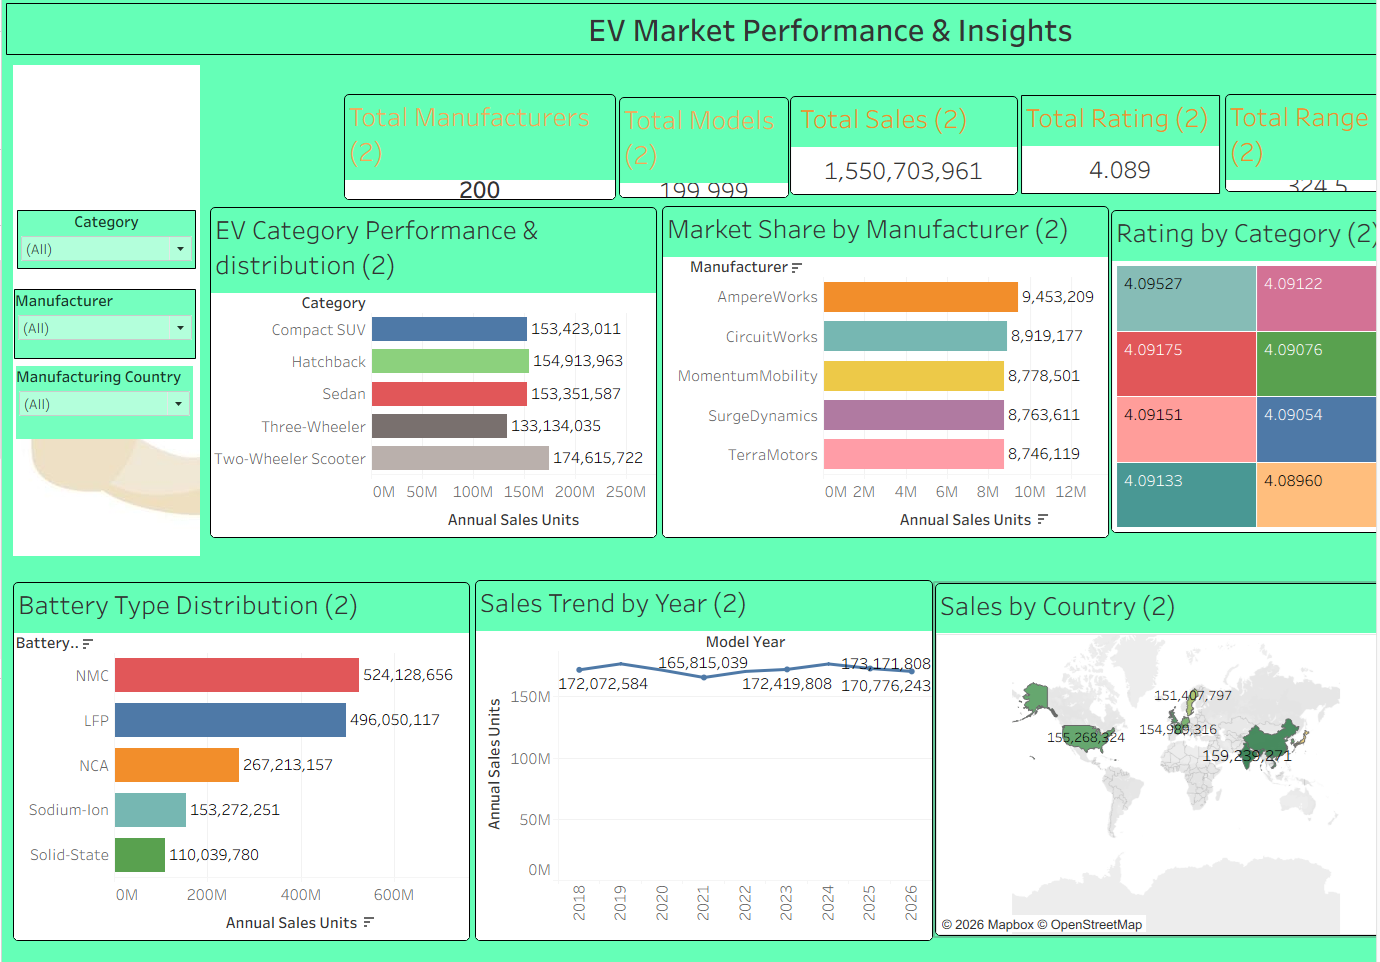

What the dashboard file says about the page in this screenshot:
{"tool":"tableau","page":{"name":"EV Market Dashboard (2)","canvas":[1000,1000],"units":"permille","ordinal":1},"visuals":[{"type":"title","box":[0,0,1000,61.8]},{"type":"image","param":"Image/small-chart-illustration-on-a-white-background-vector.jpg","box":[4.2,63.9,117.7,513.9]},{"type":"worksheet","title":"Total Manufacturers (2)","mark":"Automatic","box":[206.4,97.8,164.2,109.2]},{"type":"worksheet","title":"Total Range (2)","mark":"Automatic","box":[738.1,97.8,112.2,100.9]},{"type":"worksheet","title":"Total Battery (2)","mark":"Automatic","box":[852.8,97.8,127.9,99.9]},{"type":"worksheet","title":"Total Rating (2)","mark":"Automatic","box":[615,98.9,120.1,102]},{"type":"worksheet","title":" Total Sales (2)","mark":"Automatic","box":[475.6,99.9,137.6,102]},{"type":"worksheet","title":"Total Models (2)","mark":"Automatic","box":[372.4,100.9,102.6,104]},{"type":"worksheet","title":"Market Share by Manufacturer (2)","mark":"Automatic","rows":["manufacturer"],"cols":["annual_sales_units"],"box":[398.3,213.2,269.8,341.9]},{"type":"worksheet","title":"EV Category Performance & distribution (2)","mark":"Automatic","rows":["category"],"cols":["annual_sales_units"],"box":[125.5,214.2,269.8,340.9]},{"type":"filter","title":"EV Category Performance & distribution (2)","param":"[federated.0iyhxwp0qcz7101gm4y3o0c15tx8].[none:category:nk]","box":[9.1,217.3,108,60.8]},{"type":"worksheet","title":"Rating by Category (2)","mark":"Automatic","box":[669.3,217.3,322.9,332.7]},{"type":"filter","title":"Market Share by Manufacturer (2)","param":"[federated.0iyhxwp0qcz7101gm4y3o0c15tx8].[none:manufacturer:nk]","box":[7.2,298.7,109.8,72.1]},{"type":"filter","title":"Sales by Country (2)","param":"[federated.0iyhxwp0qcz7101gm4y3o0c15tx8].[none:manufacturing_country:nk]","box":[8.4,378,106.8,75.2]},{"type":"worksheet","title":"Sales Trend by Year (2)","mark":"Line","rows":["annual_sales_units"],"cols":["model_year"],"box":[285.5,598.4,276.4,371.8]},{"type":"worksheet","title":"Battery Type Distribution (2)","mark":"Automatic","rows":["battery_type"],"cols":["annual_sales_units"],"box":[6.6,600.4,275.8,369.7]},{"type":"worksheet","title":"Sales by Country (2)","mark":"Multipolygon","box":[563.1,601.4,291.5,363.5]}]}

Visuals, with their boxes on the dashboard's canvas, which has no fixed pixel size, in thousandths of its width and height (x1, y1, x2, y2). These are canvas units, not pixel positions in the 1380x962 screenshot, which may show the page scaled, cropped or inside an application window:
title: bbox=(0, 0, 1000, 62)
image: bbox=(4, 64, 122, 578)
"Total Manufacturers (2)" worksheet: bbox=(206, 98, 371, 207)
"Total Range (2)" worksheet: bbox=(738, 98, 850, 199)
"Total Battery (2)" worksheet: bbox=(853, 98, 981, 198)
"Total Rating (2)" worksheet: bbox=(615, 99, 735, 201)
" Total Sales (2)" worksheet: bbox=(476, 100, 613, 202)
"Total Models (2)" worksheet: bbox=(372, 101, 475, 205)
"Market Share by Manufacturer (2)" worksheet: bbox=(398, 213, 668, 555)
"EV Category Performance & distribution (2)" worksheet: bbox=(126, 214, 395, 555)
"EV Category Performance & distribution (2)" filter: bbox=(9, 217, 117, 278)
"Rating by Category (2)" worksheet: bbox=(669, 217, 992, 550)
"Market Share by Manufacturer (2)" filter: bbox=(7, 299, 117, 371)
"Sales by Country (2)" filter: bbox=(8, 378, 115, 453)
"Sales Trend by Year (2)" worksheet (Line marks): bbox=(286, 598, 562, 970)
"Battery Type Distribution (2)" worksheet: bbox=(7, 600, 282, 970)
"Sales by Country (2)" worksheet (Multipolygon marks): bbox=(563, 601, 855, 965)
